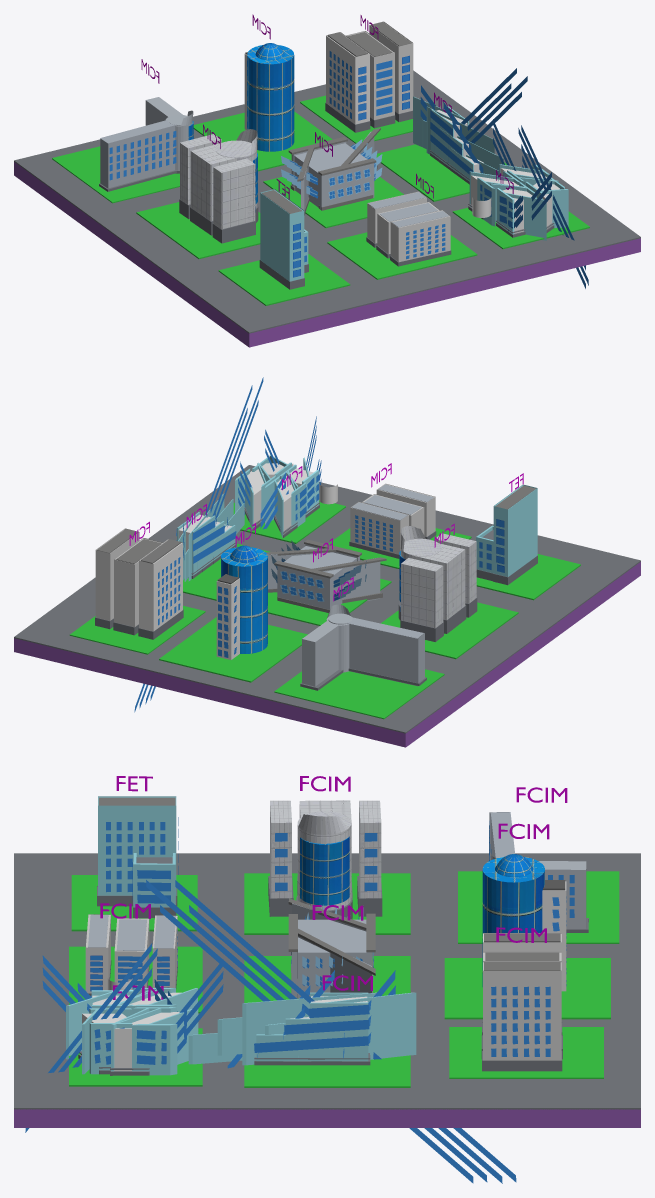
The model's file is Unipply-city2.glb.
3 views of the same model, one above another, from view 1: azimuth 30°, elevation 25°; view 2: azimuth 150°, elevation 25°; view 3: azimuth 270°, elevation 25° (orthographic). The views are drawn at different scales.
Parts seen in each view (by area): view 1: grass.009, grass.010, Cylinder.001, Cube.079, Cube.095, grass.003, grass.008, Cube.005, grass.005, Cube.008, grass.001, grass.006 (+21 smaller); view 2: grass.009, grass.010, grass.006, grass.007, Cube.076, Cylinder.001, Cube.095, Cube.008, Cube.007, grass.005, grass.003, grass.002 (+20 smaller); view 3: grass.009, grass.010, Cube.010, grass.007, Cube.095, grass.002, grass.006, grass.005, grass.008, Cylinder.001, Cube.083, Cylinder.002 (+47 smaller).
Part boxes in pixels (x1=…): grass.009: x1=14, y1=70, x2=640, y2=333; grass.010: x1=14, y1=162, x2=640, y2=347; Cylinder.001: x1=247, y1=45, x2=294, y2=151; Cube.079: x1=100, y1=120, x2=176, y2=188; Cube.095: x1=260, y1=189, x2=304, y2=281; grass.003: x1=218, y1=254, x2=350, y2=305; grass.008: x1=376, y1=144, x2=506, y2=201; Cube.005: x1=213, y1=158, x2=255, y2=229; grass.005: x1=136, y1=202, x2=260, y2=258; Cube.008: x1=326, y1=32, x2=369, y2=124; grass.001: x1=327, y1=232, x2=477, y2=279; grass.006: x1=52, y1=146, x2=179, y2=203; grass.009: x1=14, y1=465, x2=640, y2=733; grass.010: x1=14, y1=562, x2=640, y2=747; grass.006: x1=274, y1=669, x2=444, y2=719; grass.007: x1=159, y1=617, x2=307, y2=682; Cube.076: x1=347, y1=623, x2=424, y2=686; Cylinder.001: x1=221, y1=547, x2=267, y2=653; Cube.095: x1=493, y1=484, x2=537, y2=576; Cube.008: x1=139, y1=539, x2=182, y2=631; Cube.007: x1=401, y1=558, x2=443, y2=627; grass.005: x1=381, y1=602, x2=518, y2=659; grass.003: x1=476, y1=554, x2=580, y2=600; grass.002: x1=69, y1=605, x2=205, y2=654; grass.009: x1=14, y1=853, x2=640, y2=1109; grass.010: x1=14, y1=1109, x2=640, y2=1127; Cube.010: x1=483, y1=961, x2=561, y2=1060; grass.007: x1=444, y1=958, x2=610, y2=1019; Cube.095: x1=98, y1=796, x2=176, y2=895; grass.002: x1=449, y1=1027, x2=603, y2=1078; grass.006: x1=458, y1=871, x2=619, y2=943; grass.005: x1=244, y1=873, x2=410, y2=934; grass.008: x1=244, y1=1055, x2=410, y2=1087; Cylinder.001: x1=482, y1=856, x2=544, y2=986; Cube.083: x1=322, y1=992, x2=416, y2=1059; Cylinder.002: x1=300, y1=836, x2=349, y2=905.
Size of the model in its own units: 19.27 by 10.96 by 20.04.
Materials: 865 (8 with a texture image).
